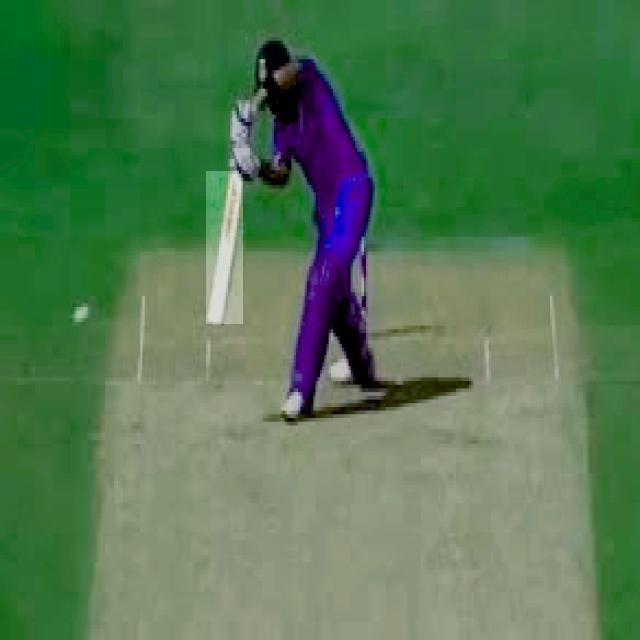bat: (208, 168, 244, 323)
toe: (205, 314, 229, 327)
